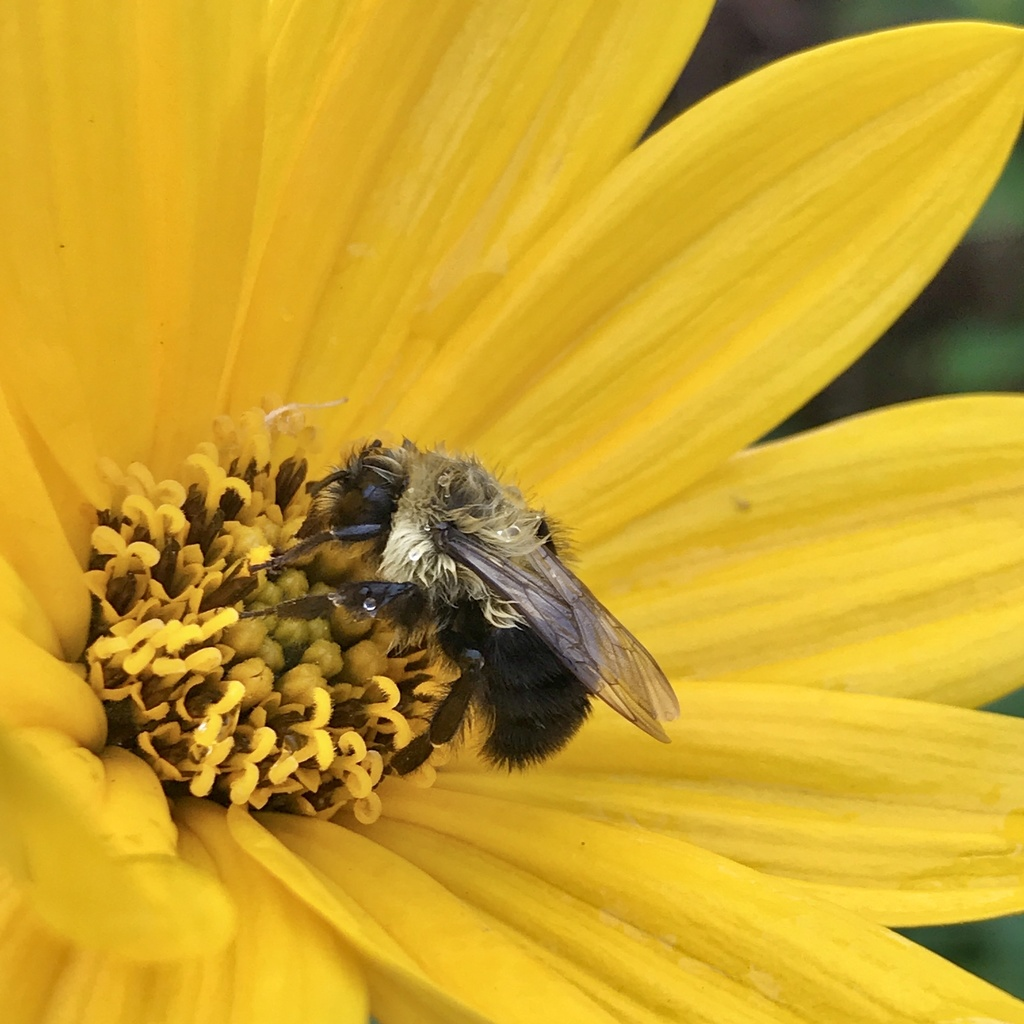bumblebee: (238, 436, 683, 781)
